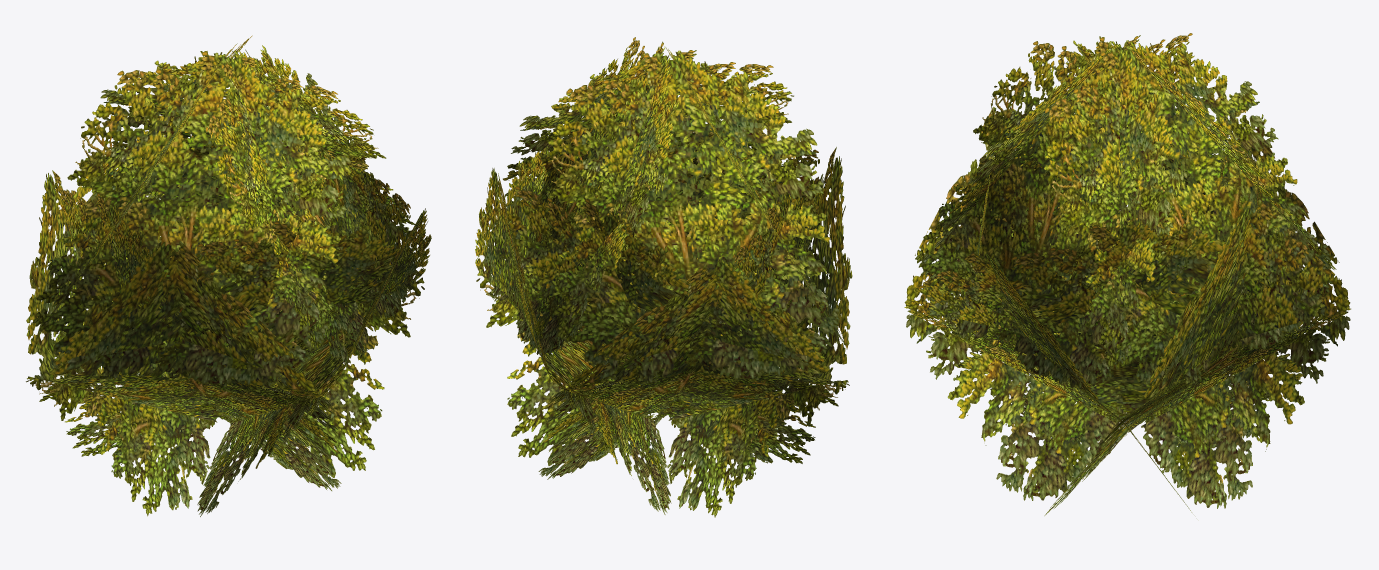
Rendered from treefacade02.obj.
3 renders of one model, left to right at view 1: azimuth 30°, elevation 25°; view 2: azimuth 150°, elevation 25°; view 3: azimuth 270°, elevation 25°, orthographic. The views are drawn at different scales.
Parts seen in each view (by area): view 1: treefacade02; view 2: treefacade02; view 3: treefacade02.
Boxes of the visible parts, left/top/right/bottom form: treefacade02: left=26, top=35, right=431, bottom=516; treefacade02: left=475, top=37, right=852, bottom=517; treefacade02: left=904, top=33, right=1350, bottom=515.
Bounding box in the file's own units: 65.31 × 68.49 × 63.21.
1 material, 1 textured.
